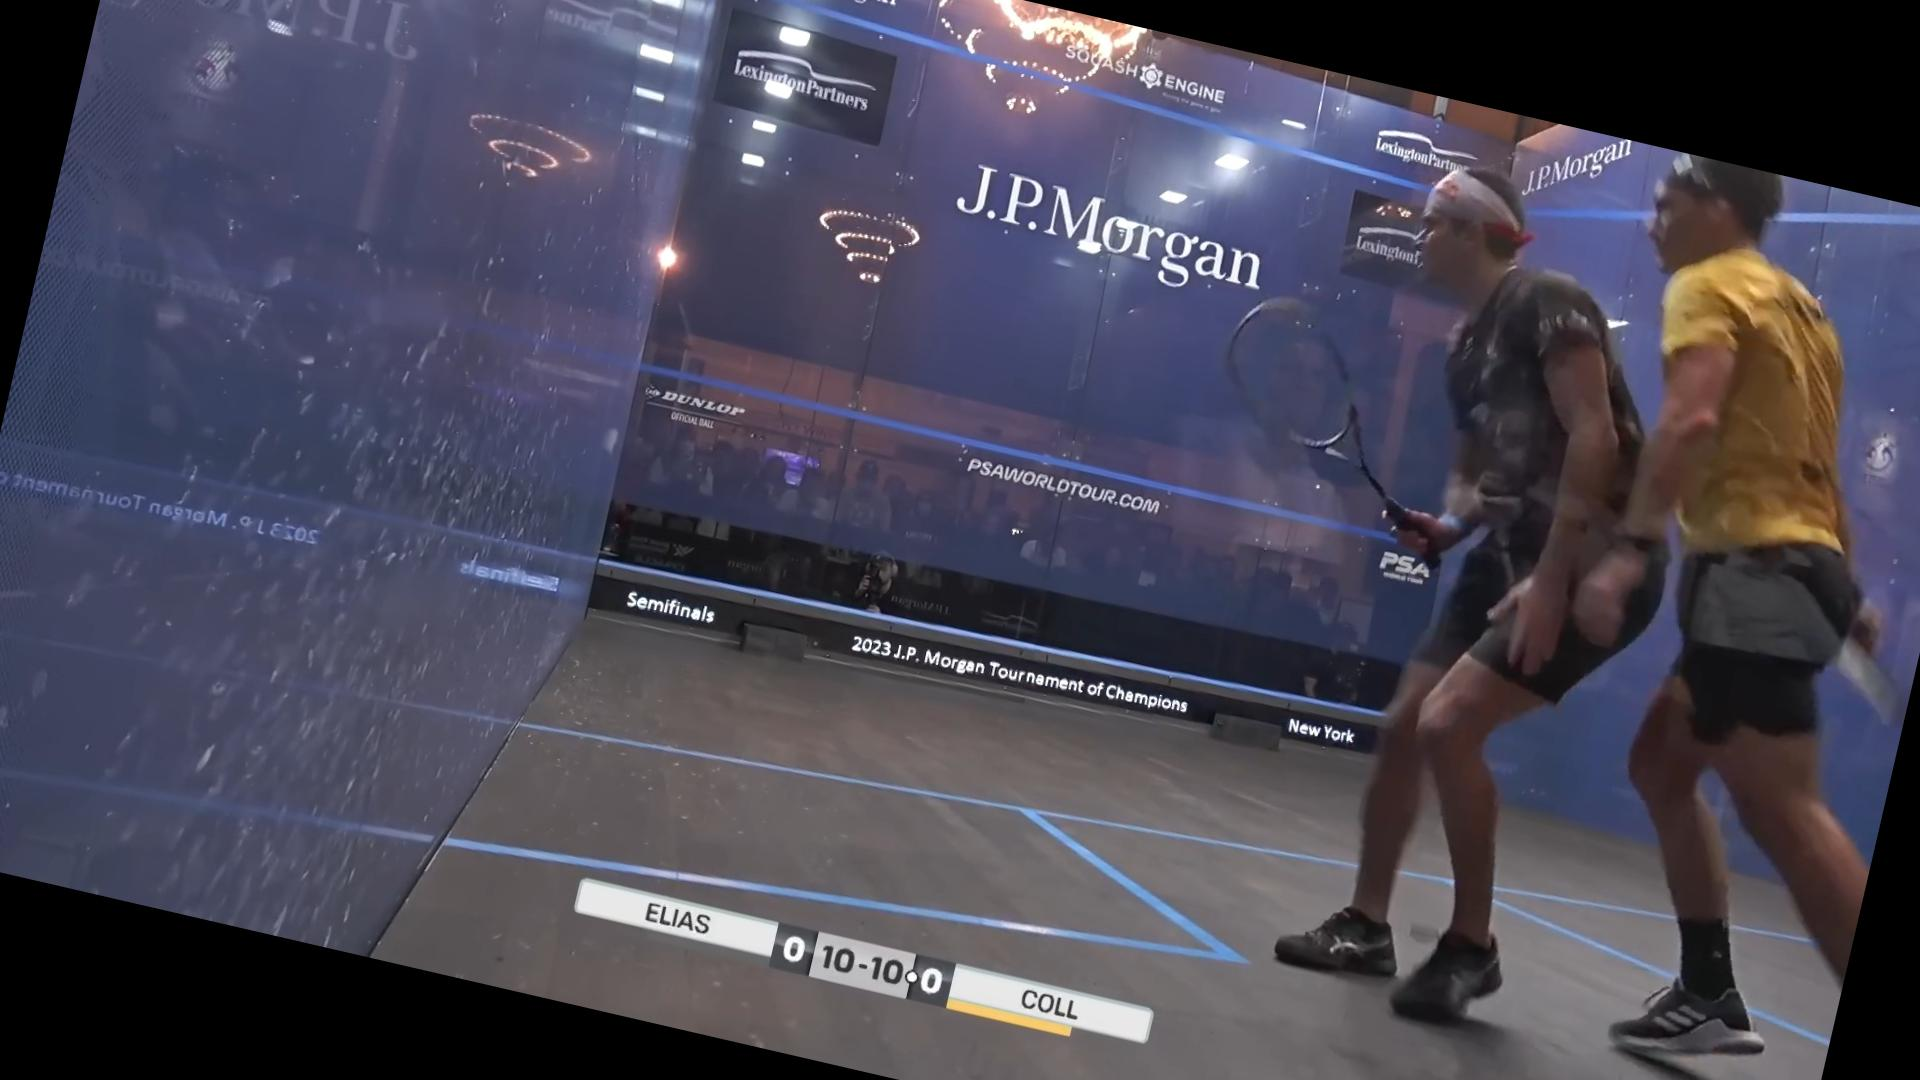Racket: (1185, 272, 1456, 526)
